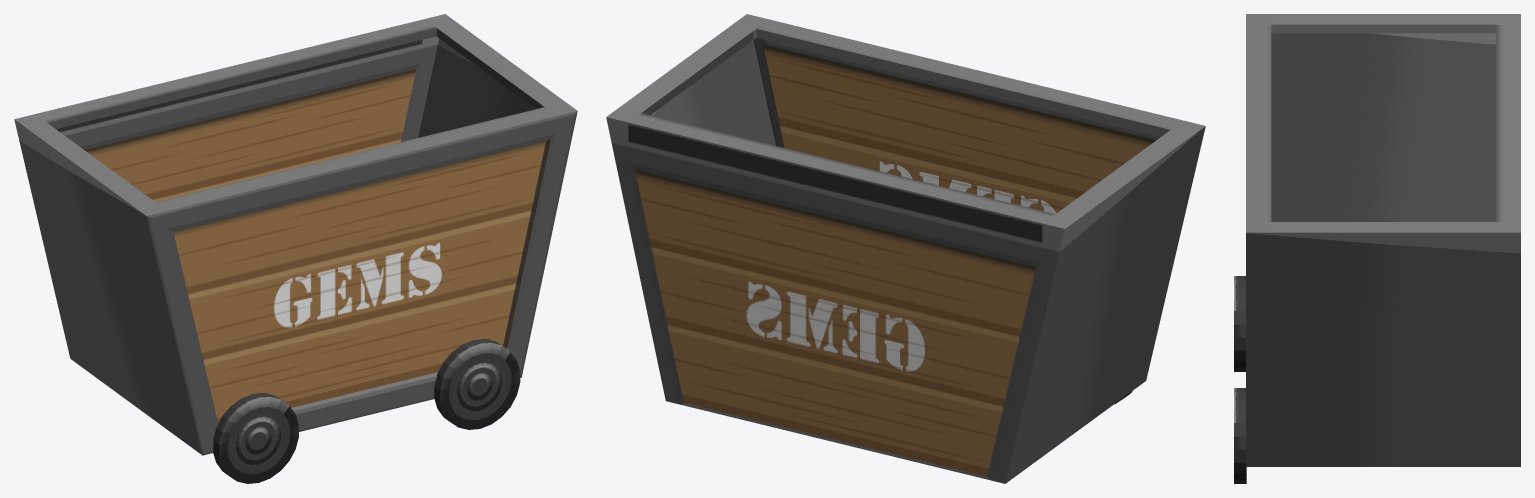
File: wagon.fbx
The picture shows the model from 3 angles, left to right: view 1: azimuth 30°, elevation 25°; view 2: azimuth 150°, elevation 25°; view 3: azimuth 270°, elevation 25°; orthographic projection. The views are drawn at different scales.
Parts seen in each view (by area): view 1: Cube, Circle; view 2: Cube; view 3: Cube, Circle.
Part boxes in pixels (x1,y1,x2,y2): Cube: [14, 14, 577, 455]; Circle: [213, 339, 520, 483]; Cube: [606, 14, 1205, 483]; Cube: [1246, 14, 1520, 466]; Circle: [1234, 276, 1246, 483].
Bounding box in the file's own units: 376 × 241 × 209.
